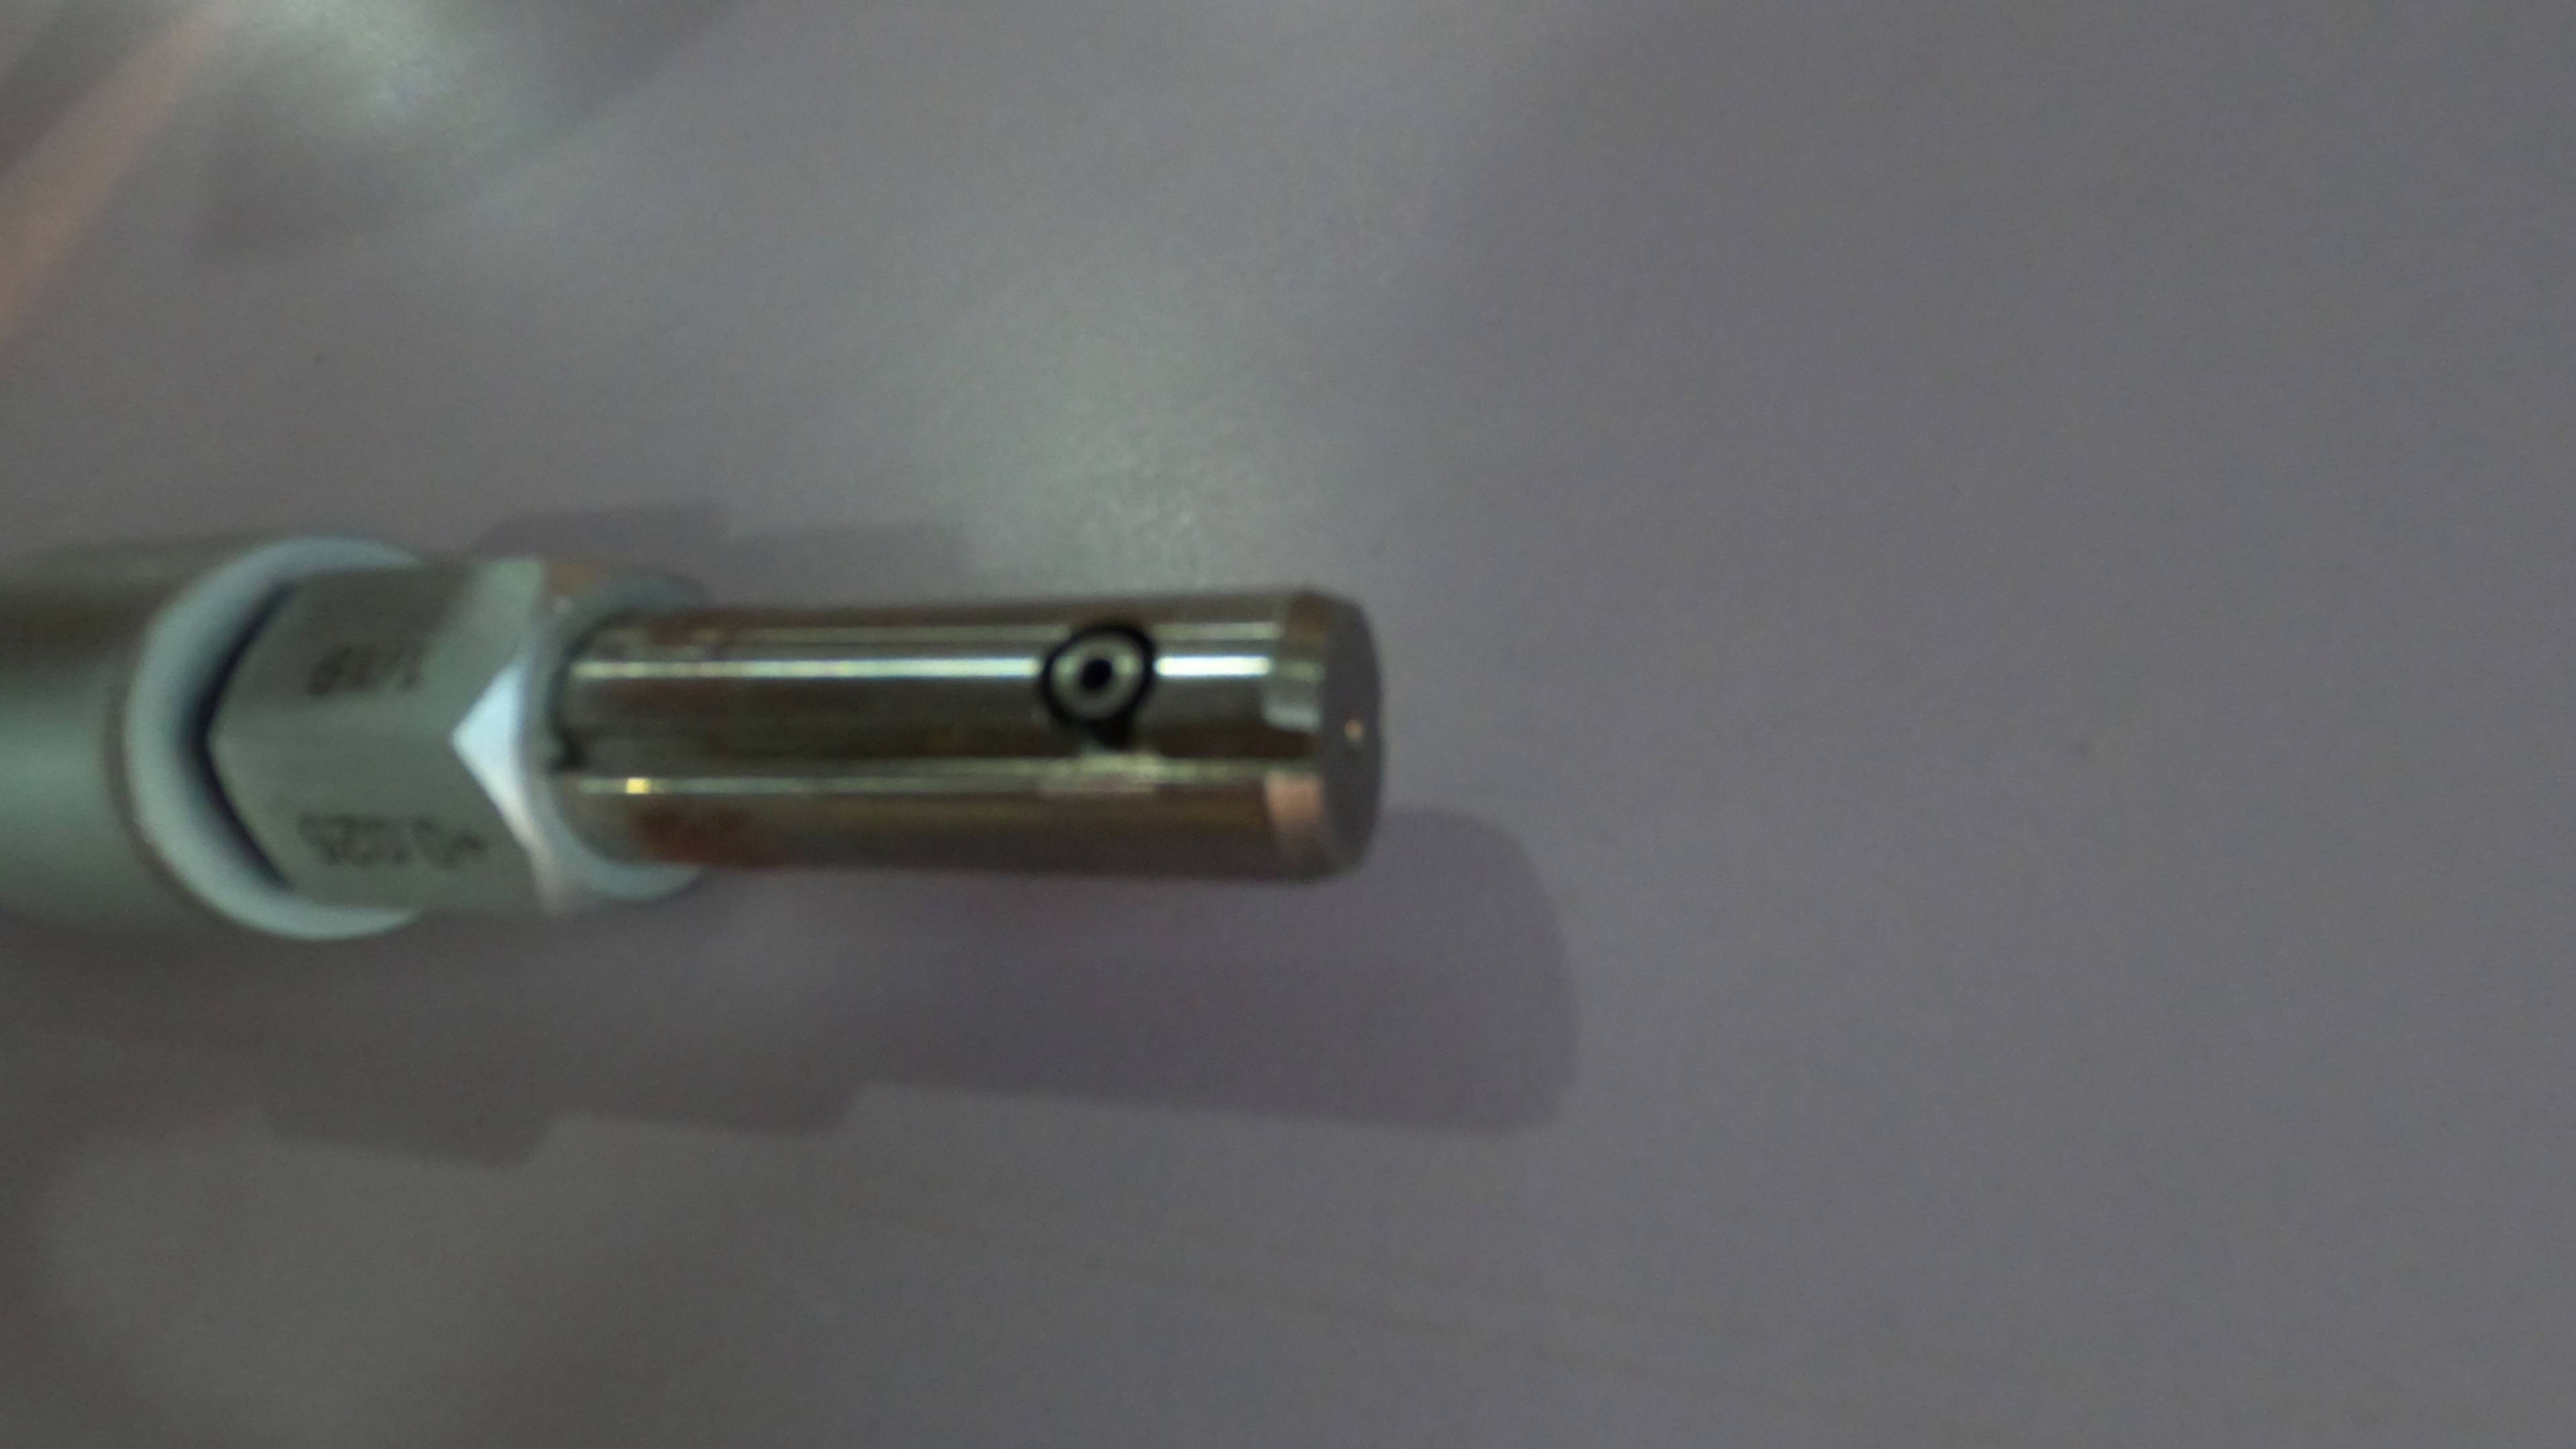air_gauge: (9, 522, 1394, 948)
